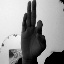f: (19, 1, 47, 57)
